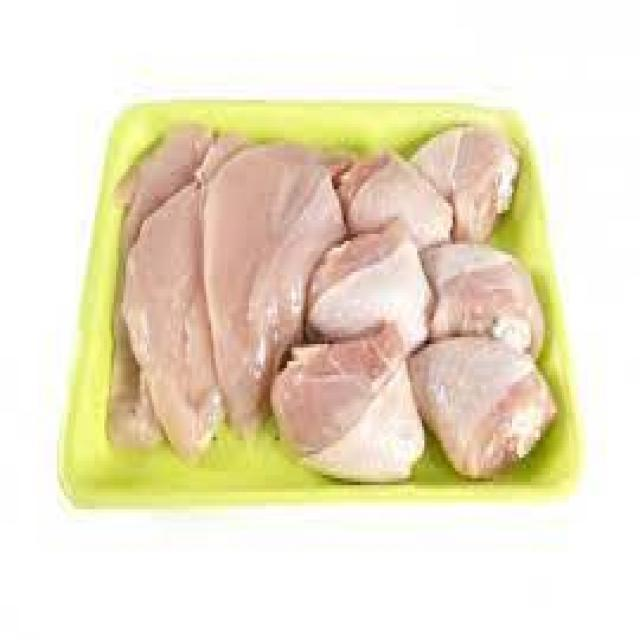chicken: (203, 125, 349, 442), (110, 107, 229, 452), (409, 324, 561, 484), (277, 333, 427, 480), (406, 116, 523, 251), (310, 218, 424, 349), (420, 242, 548, 357), (337, 143, 457, 236)
